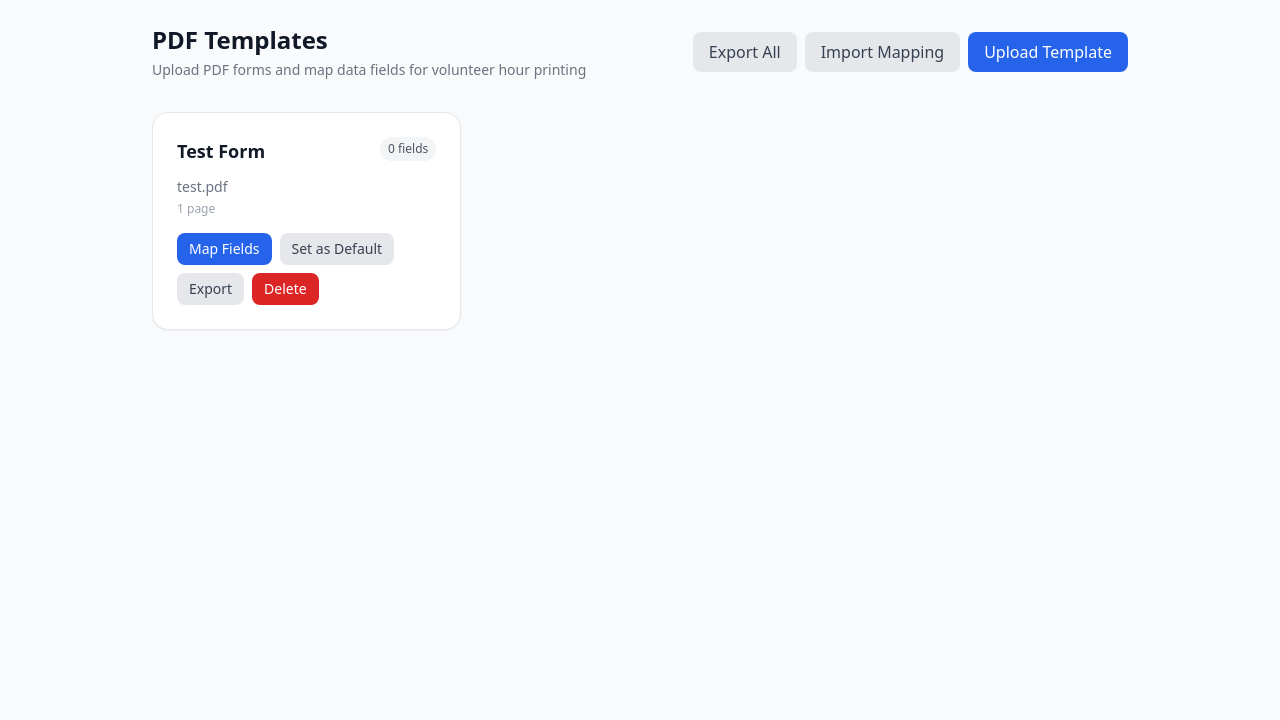
Scenario: PdfTemplatesPage › field mapper modal › should allow adding a custom column while placing an activity table
Click the button "Map Fields": (224, 249) [177, 233, 272, 265]
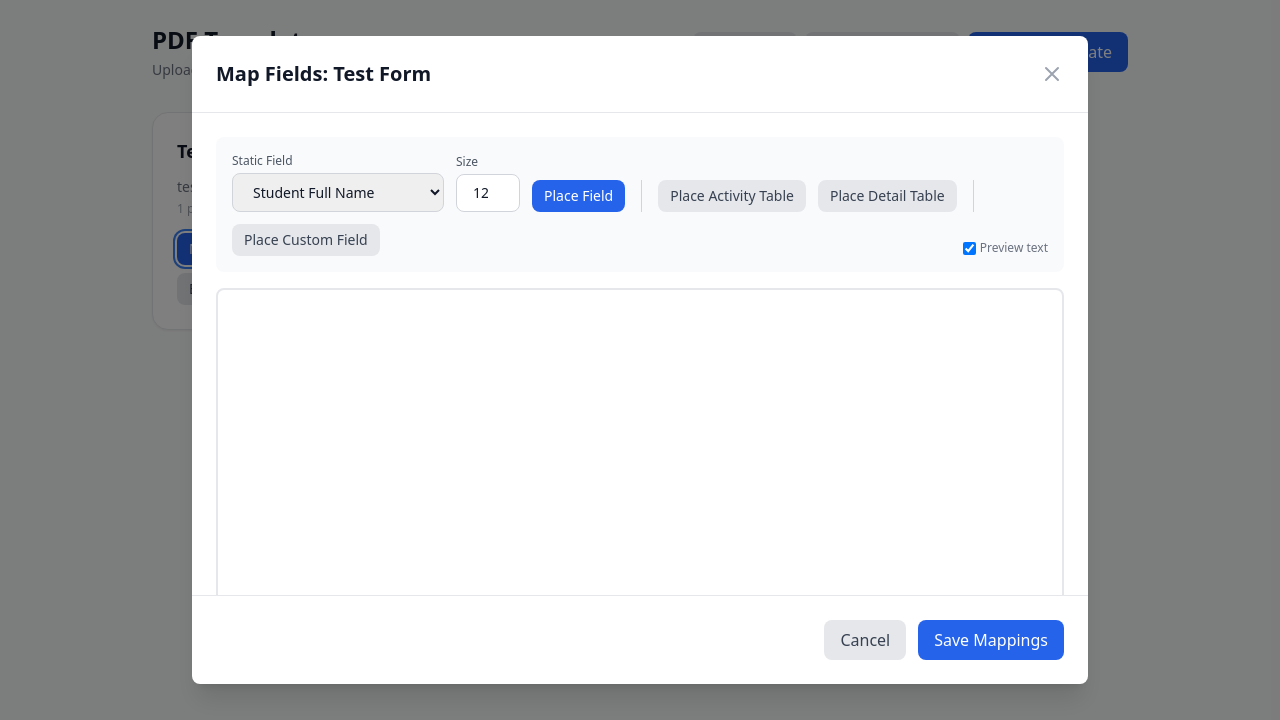
Click the button "Place Activity Table": (732, 196) [658, 180, 806, 212]
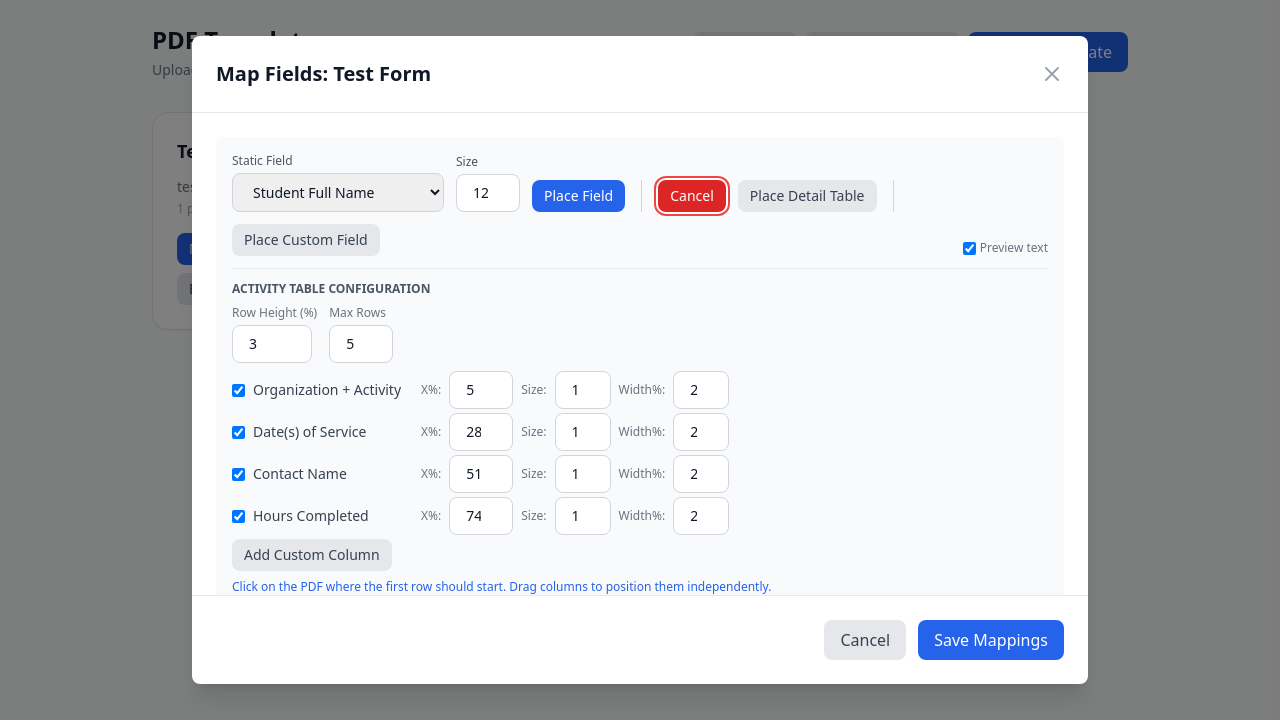
Click the button "Add Custom Column": (312, 555) [232, 539, 392, 571]
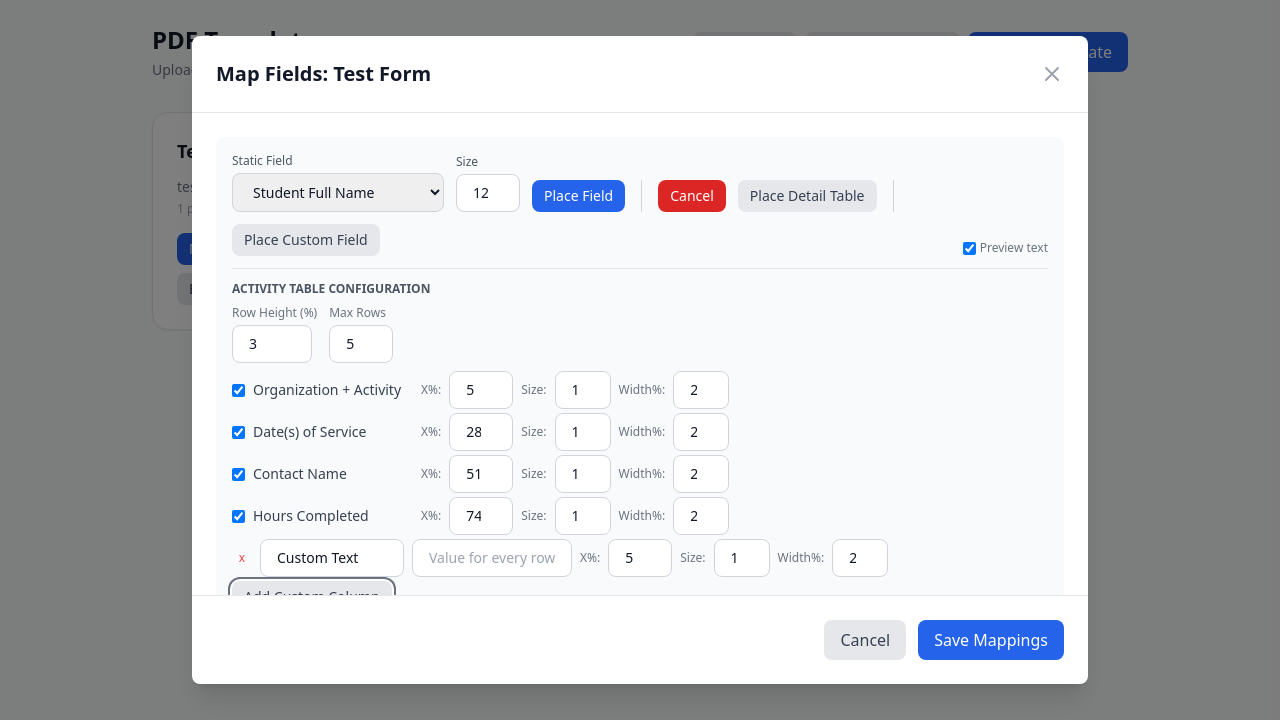
expect the field with placeholder "Value for every row" is shown: met, box [412, 539, 572, 577]
